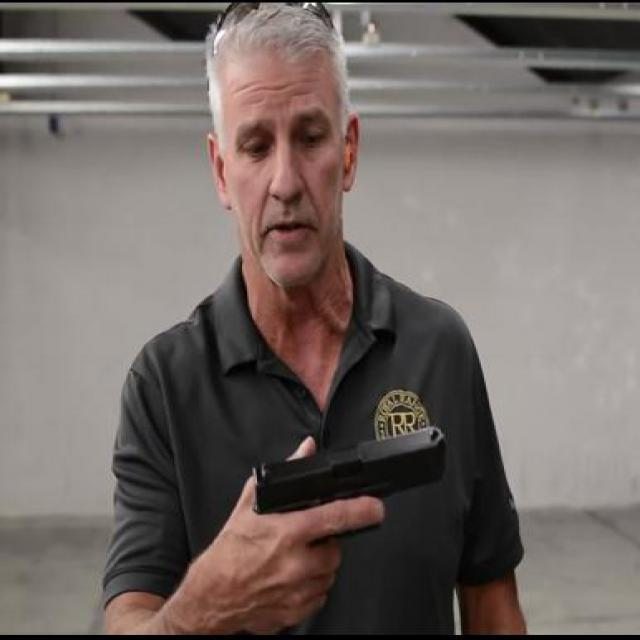gun: (240, 422, 450, 625)
